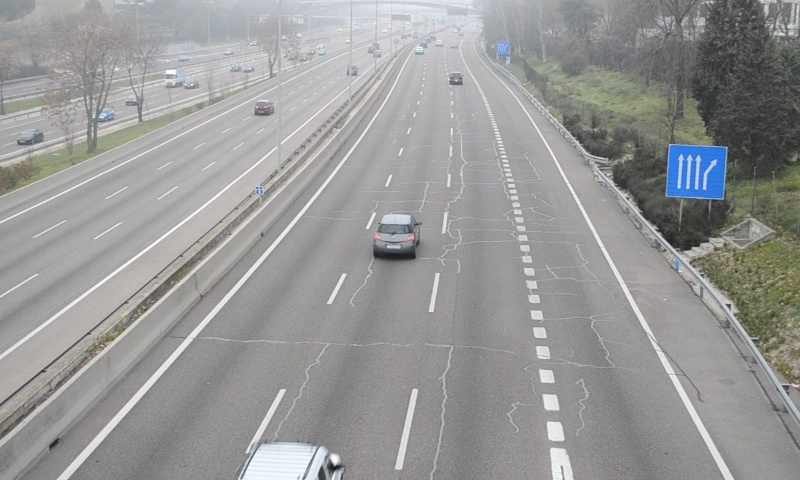car: (373, 214, 420, 256), (448, 72, 463, 86)
